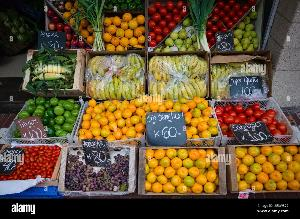banana: (84, 53, 146, 97), (148, 56, 206, 94), (212, 60, 270, 98)
corn: (22, 51, 77, 91)
grape: (67, 138, 133, 192)
mango: (3, 98, 81, 142)
orange: (80, 100, 210, 140), (143, 151, 221, 197), (234, 148, 300, 192), (104, 6, 146, 50)
pear: (228, 15, 262, 51), (166, 22, 196, 54)
tomato: (218, 101, 292, 142), (0, 147, 60, 187)
